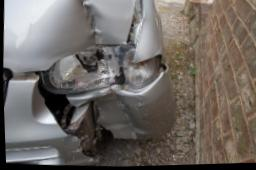Bonnet: (63, 0, 146, 48)
Bumper: (34, 78, 190, 164)
Light: (34, 43, 167, 96)
